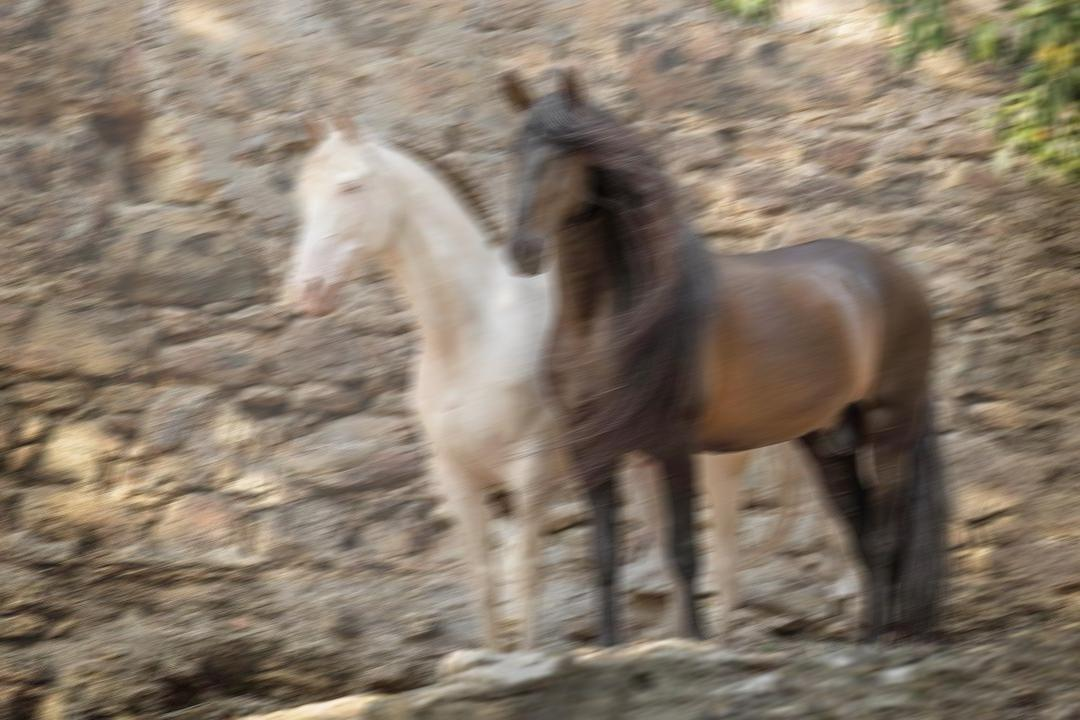horse: (284, 102, 793, 654), (499, 65, 961, 650)
